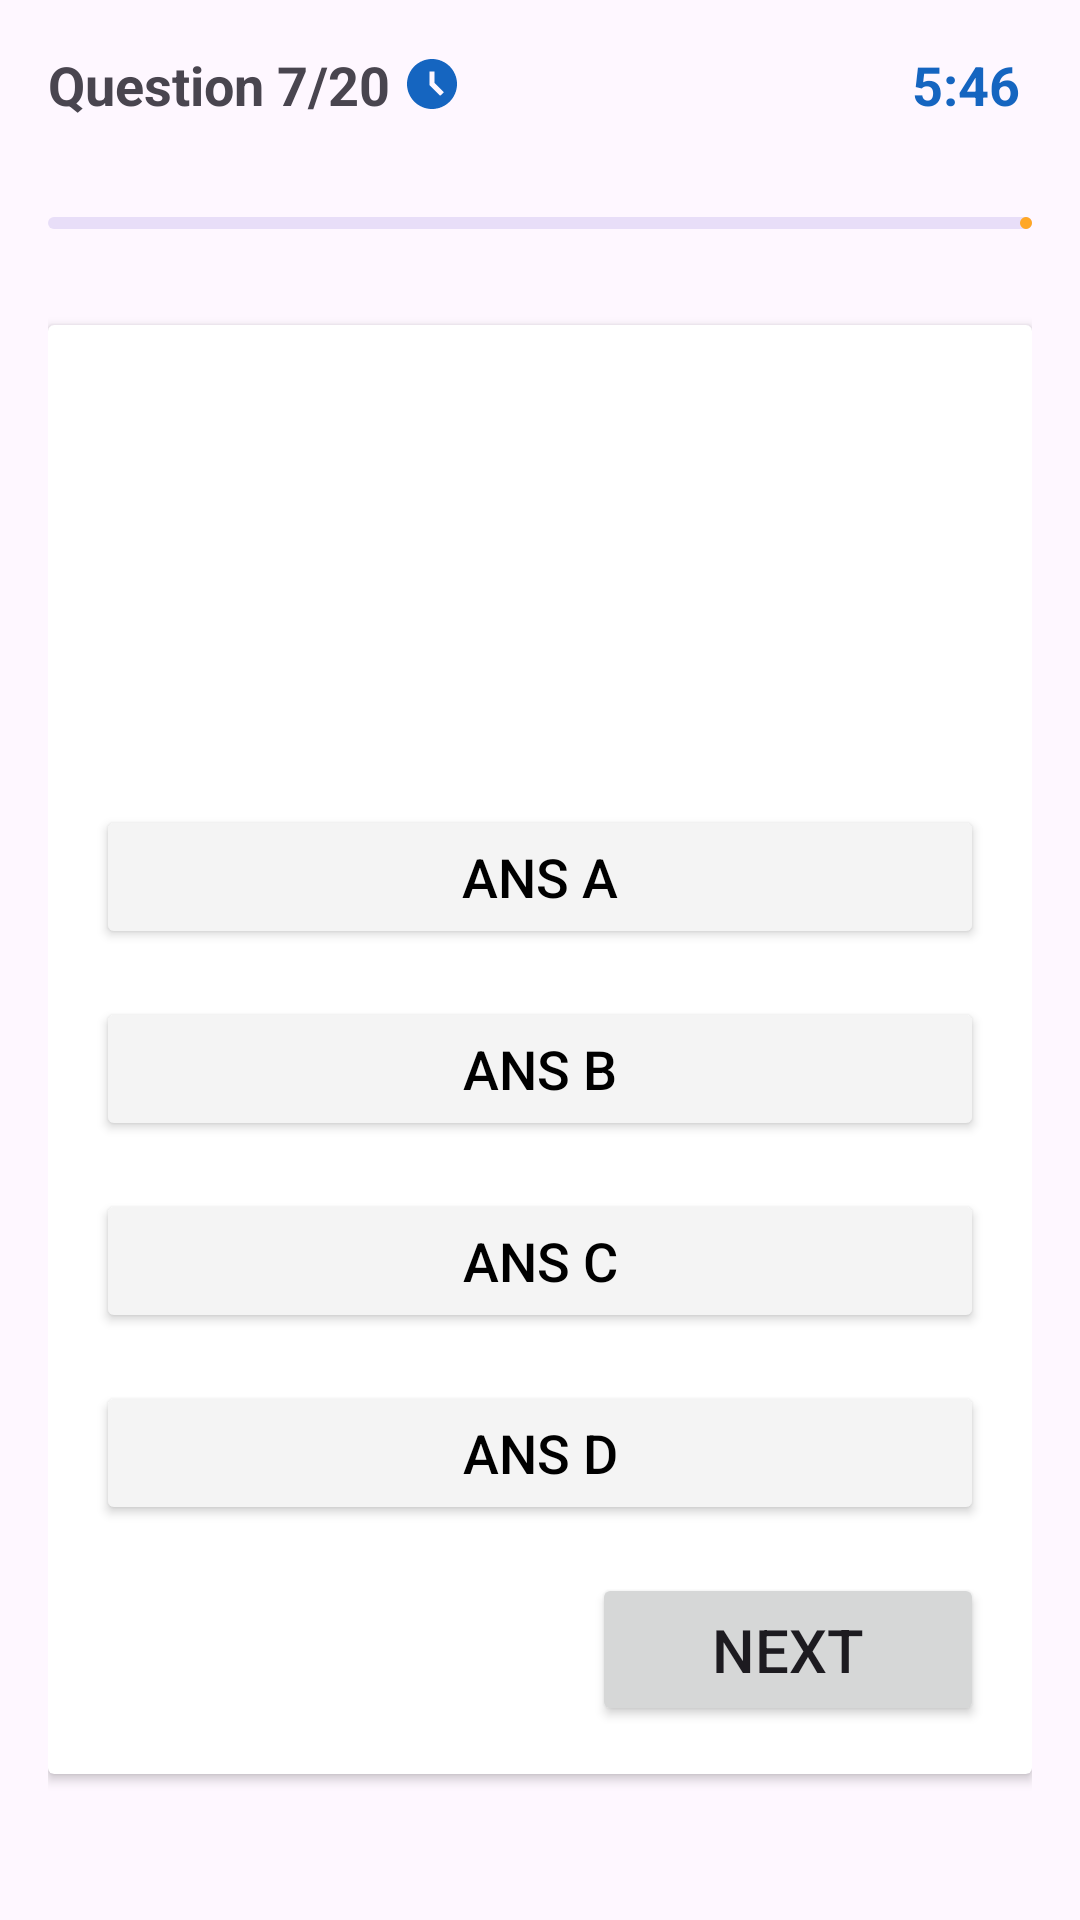

Locate icon controls on the screen. Image size 1080px×1920px, boxes as (x1, y1, x2, y2).
timer: (407, 59, 457, 109)
